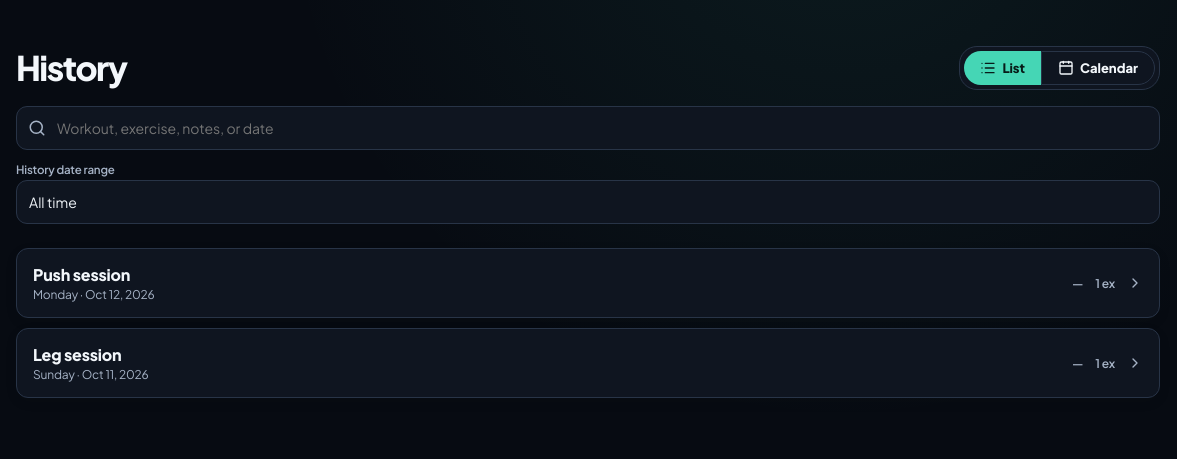
workout history › searches names, exercises, notes and dates with all words, and clears without changing history
The width and height of the screenshot is (1177, 459).
Step 1. Type "  BENCH vacation " into the search field named "Search workout history" → {"x": 588, "y": 128}, box [16,106,1160,150]
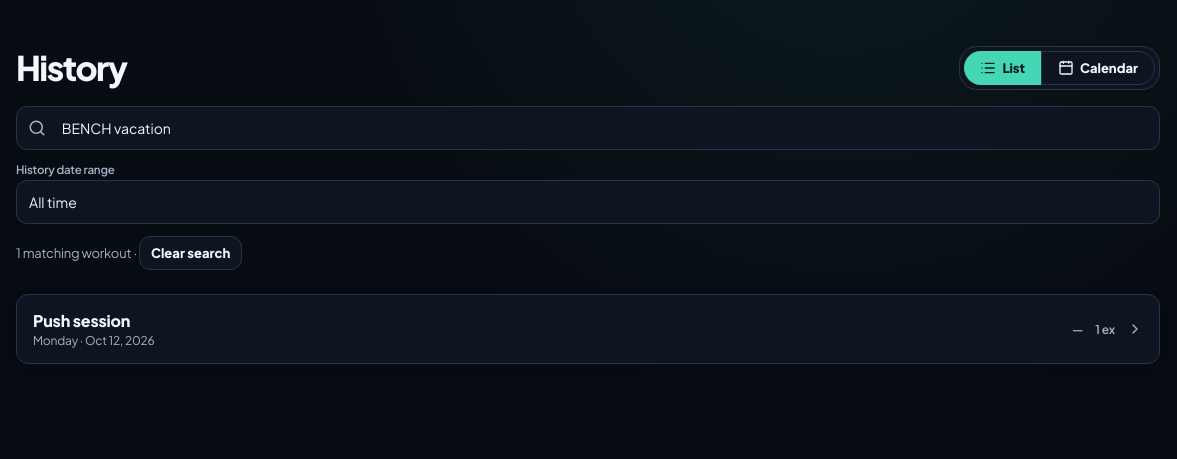
expect the text "Push session" is shown: met, box [33,310,130,331]
expect the text "Leg session" is gone: met
expect the message shows "1 matching workout": met, box [16,236,242,270]
Step 2. Replace the text in the search field named "Search workout history" with "Push" → {"x": 588, "y": 128}, box [16,106,1160,150]
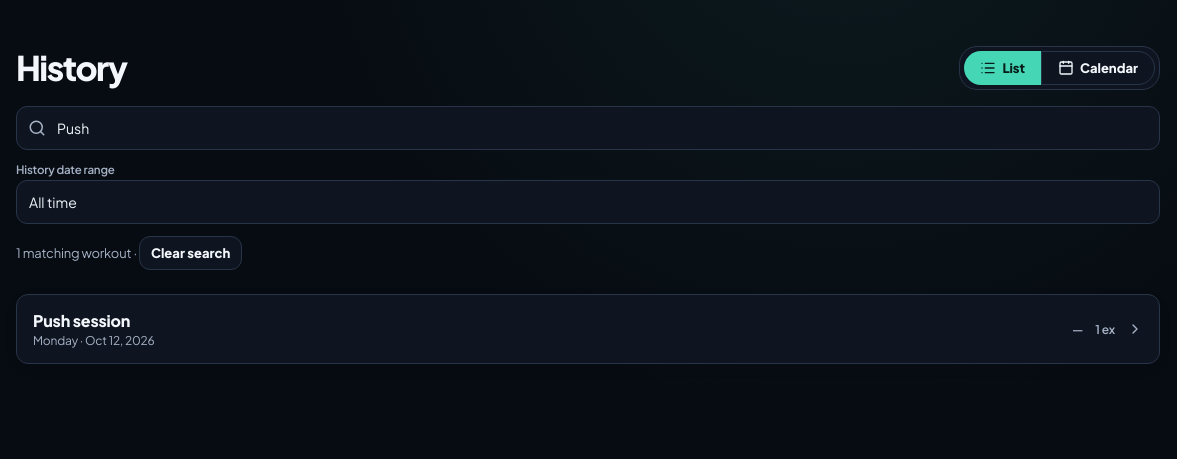
expect the text "Push session" is shown: met, box [33,310,130,331]
expect the message shows "1 matching workout": met, box [16,236,242,270]
Step 3. Replace the text in the search field named "Search workout history" with "2026-10-12" → {"x": 588, "y": 128}, box [16,106,1160,150]
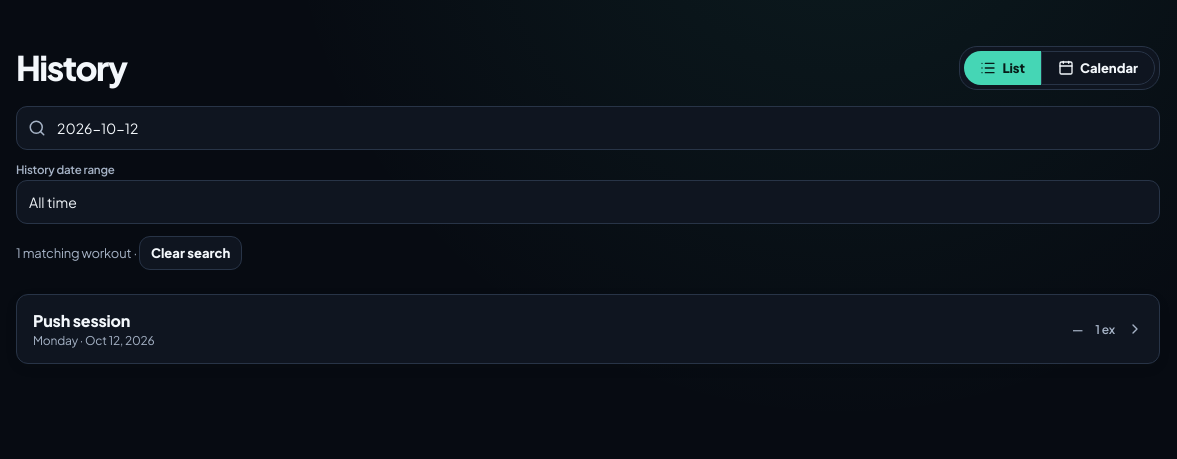
expect the text "Push session" is shown: met, box [33,310,130,331]
expect the message shows "1 matching workout": met, box [16,236,242,270]
Step 4. Replace the text in the search field named "Search workout history" with "missing" → {"x": 588, "y": 128}, box [16,106,1160,150]
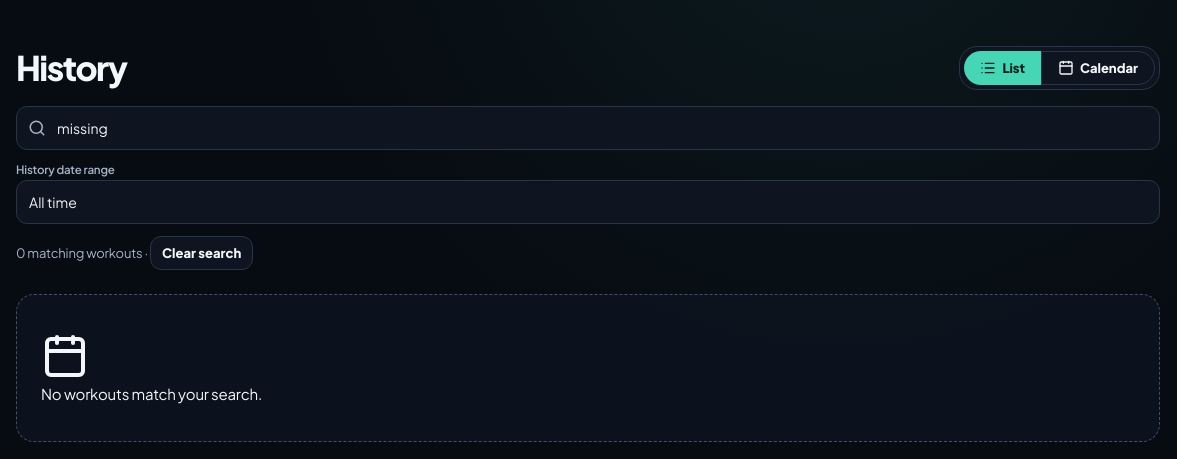
expect the text "No workouts match your search." is shown: met, box [41,384,262,403]
Step 5. Click the button "Clear search" → {"x": 202, "y": 253}, box [150,236,253,270]
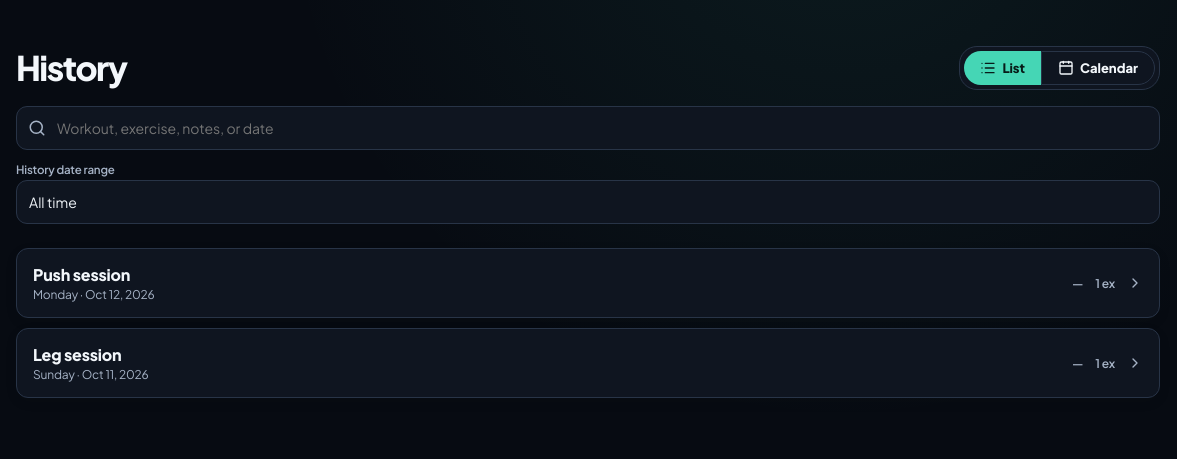
expect the text "Leg session" is shown: met, box [33,344,122,365]
expect the text "Push session" is shown: met, box [33,264,130,285]
